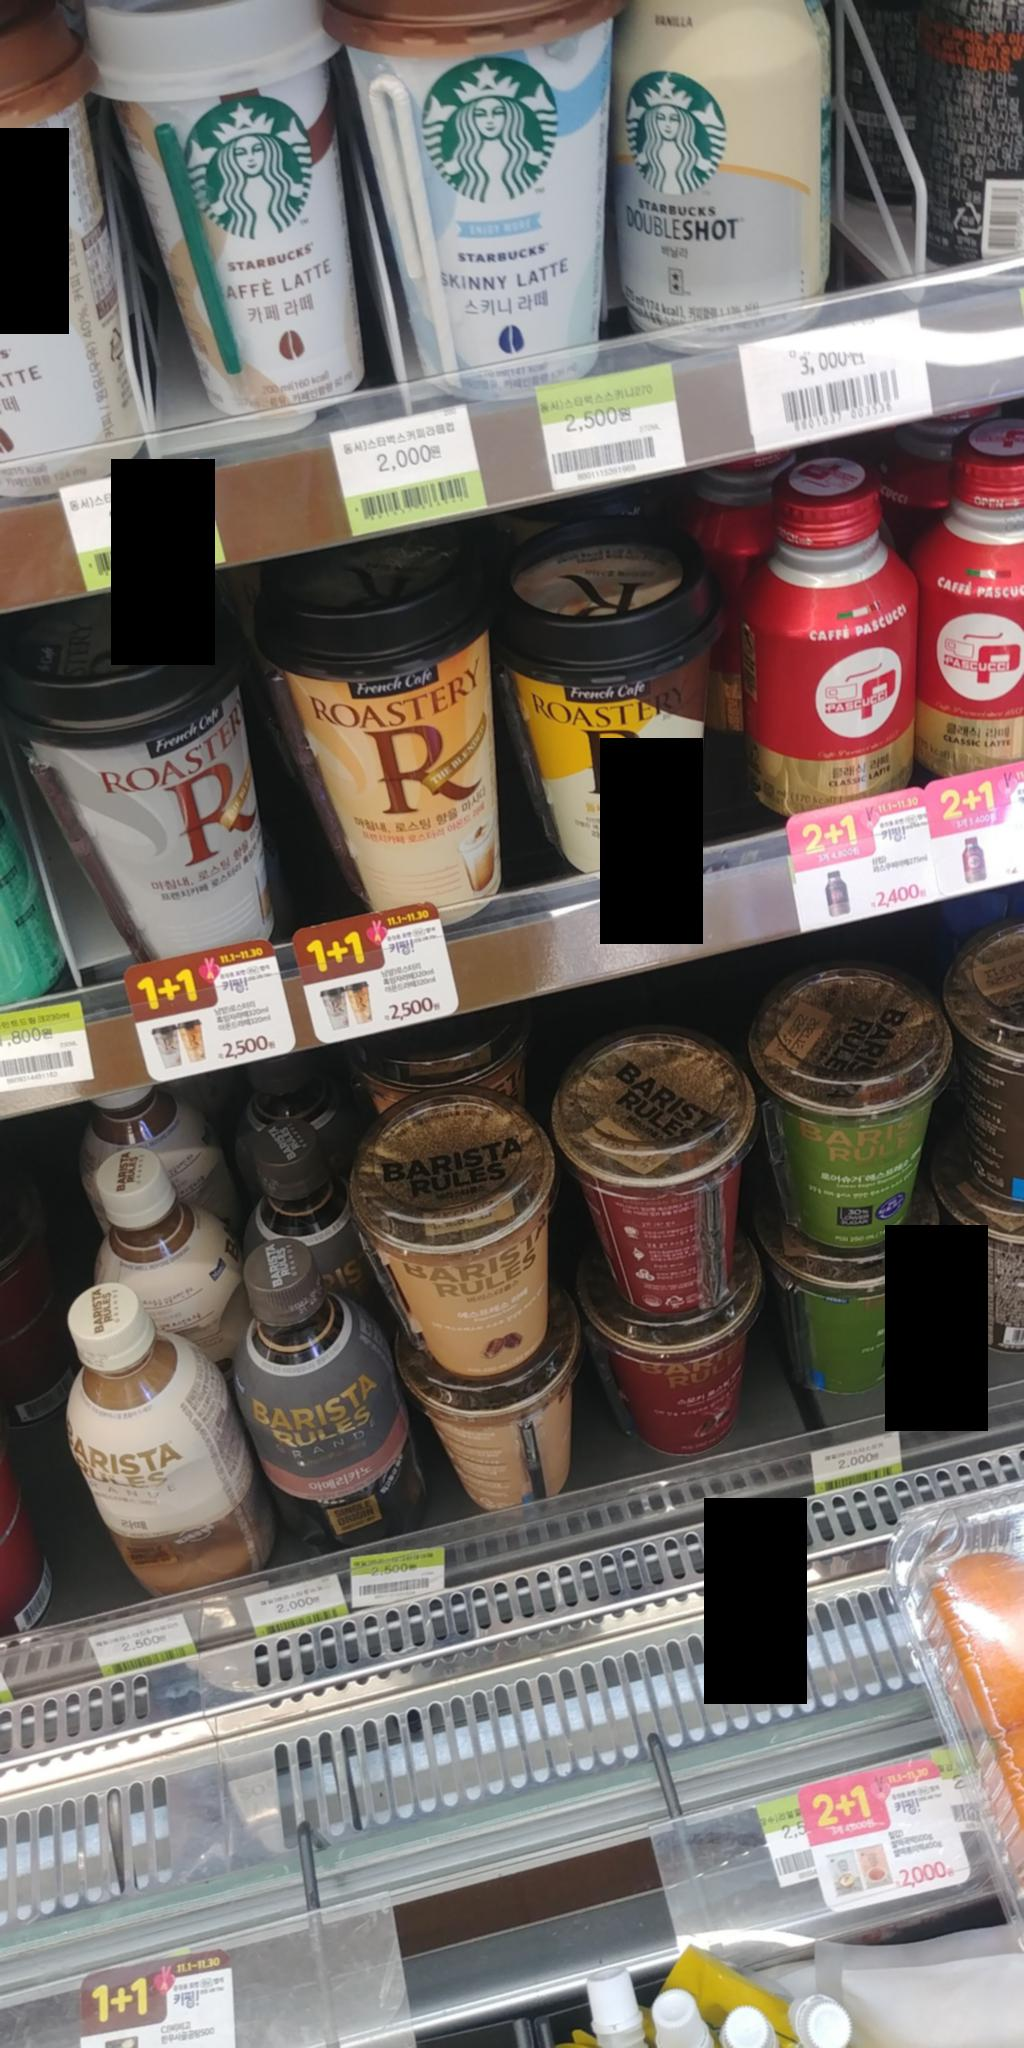baristarules_espressolatte: (341, 1127, 571, 1401)
